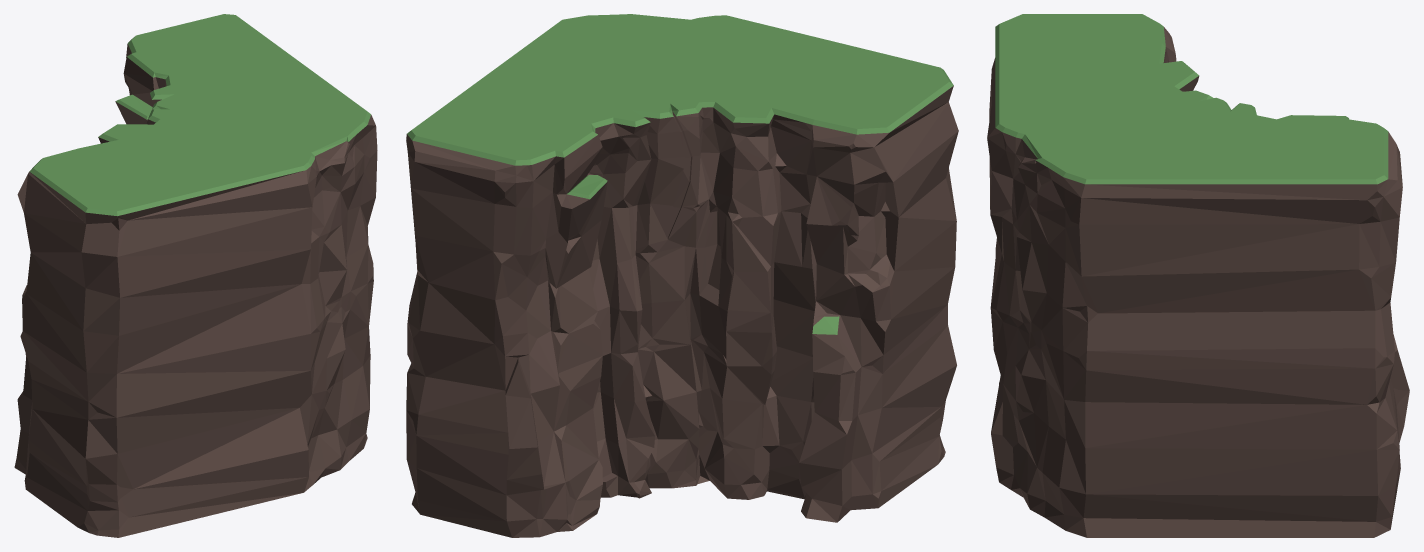
The model's file is Cliff H 7.fbx.
The picture shows the model from 3 angles, left to right: view 1: azimuth 30°, elevation 25°; view 2: azimuth 150°, elevation 25°; view 3: azimuth 270°, elevation 25°; orthographic projection. The views are drawn at different scales.
Visible parts, largest first — view 1: Cliff 19; view 2: Cliff 19; view 3: Cliff 19.
Boxes of the visible parts, <box> form: Cliff 19: <box>14,14,377,537</box>; Cliff 19: <box>406,14,958,537</box>; Cliff 19: <box>987,14,1409,537</box>.
Size of the model in its own units: 209 by 202 by 216.
